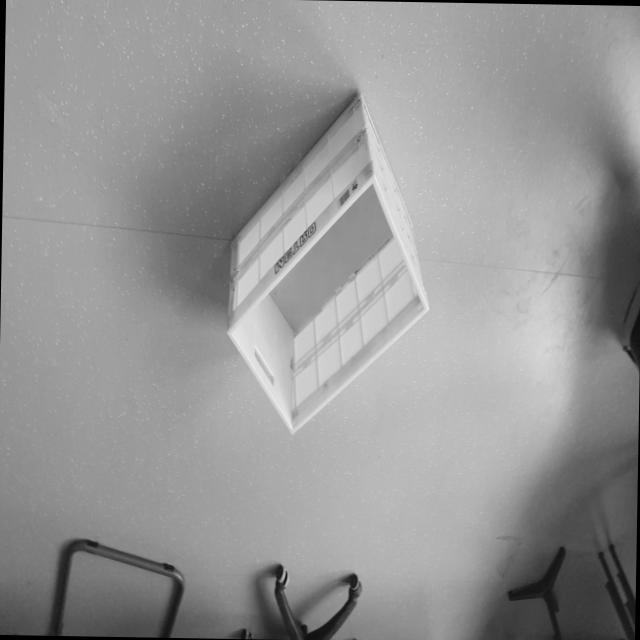box: (223, 64, 434, 446)
